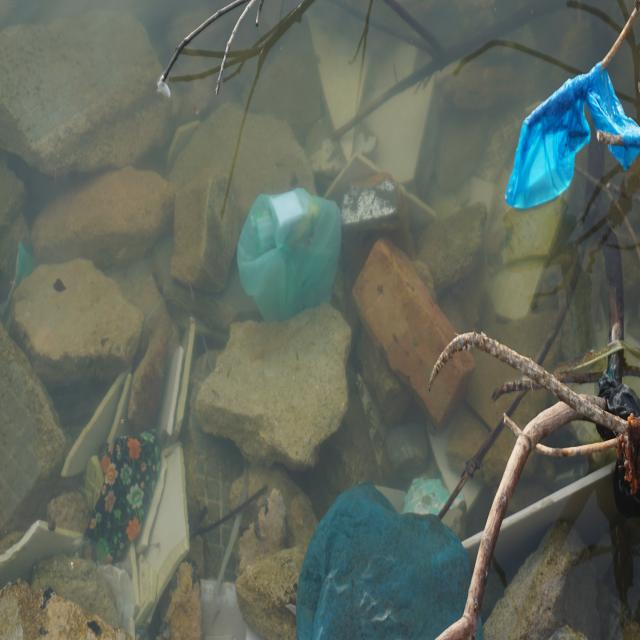Kantong Plastik: (297, 471, 492, 640), (505, 63, 638, 226), (232, 180, 349, 320)
